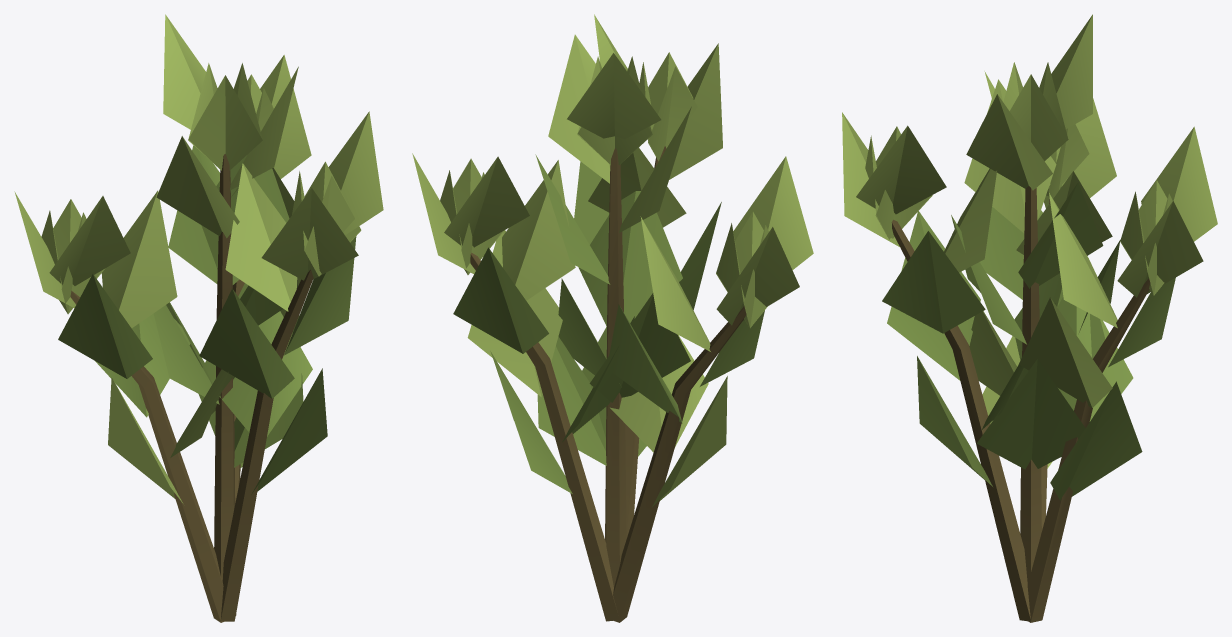
Rendered from hedge_sprig.glb.
3 views of the same model, side by side, from view 1: azimuth 30°, elevation 25°; view 2: azimuth 150°, elevation 25°; view 3: azimuth 270°, elevation 25° (orthographic).
Visible parts, largest first — view 1: leaves, stem; view 2: leaves, stem; view 3: leaves, stem.
Boxes of the visible parts, x1,y1,x2,y2 form: leaves: (14, 14, 383, 503); stem: (70, 154, 313, 622); leaves: (412, 14, 813, 506); stem: (470, 146, 746, 622); leaves: (842, 14, 1217, 500); stem: (891, 186, 1150, 622).
Size of the model in its own units: 0.1634 by 0.2911 by 0.1679.
